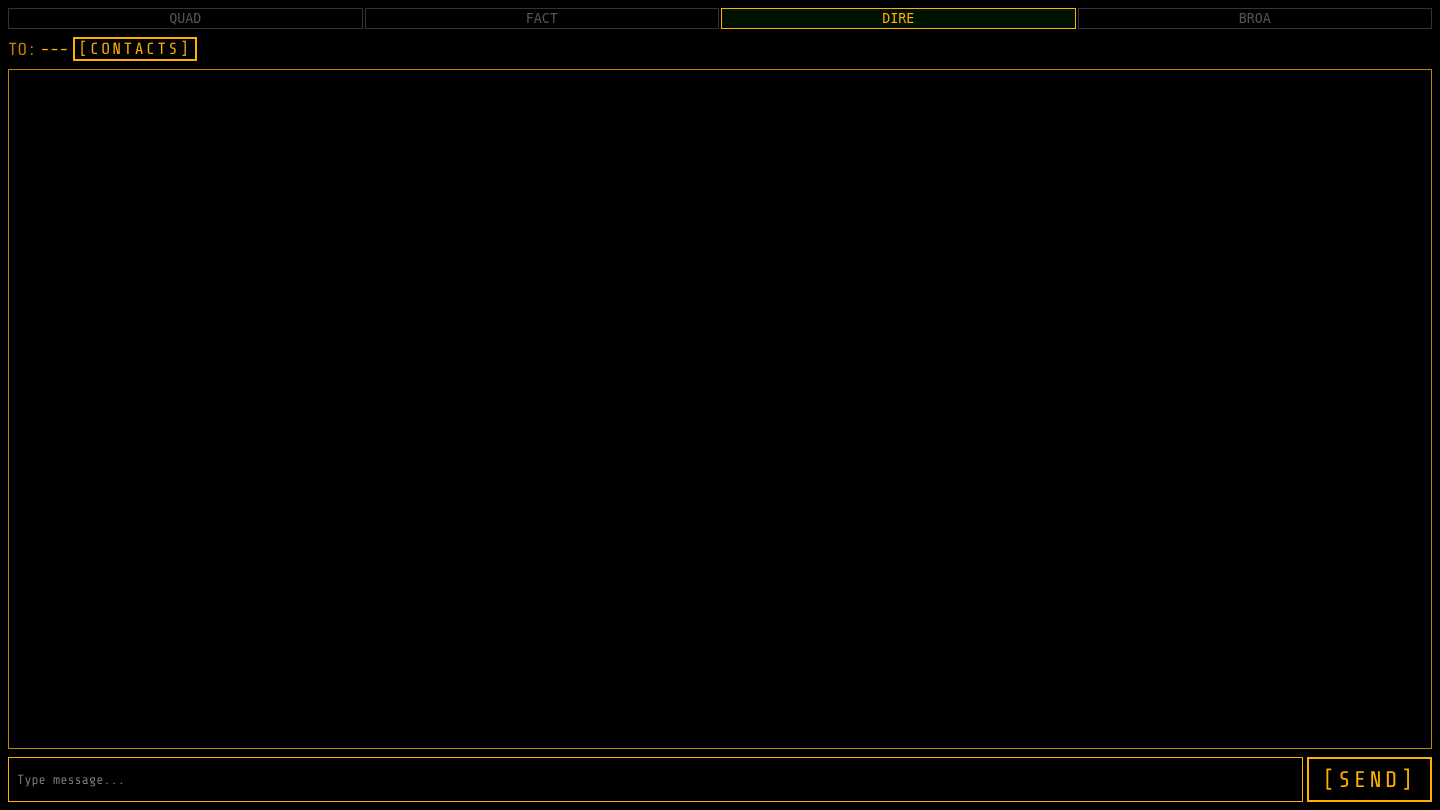
Test: CommsScreen › address book (direct channel) › selects a contact from the list
Click the button "[CONTACTS]".
click(135, 49)  # box [73, 37, 197, 61]
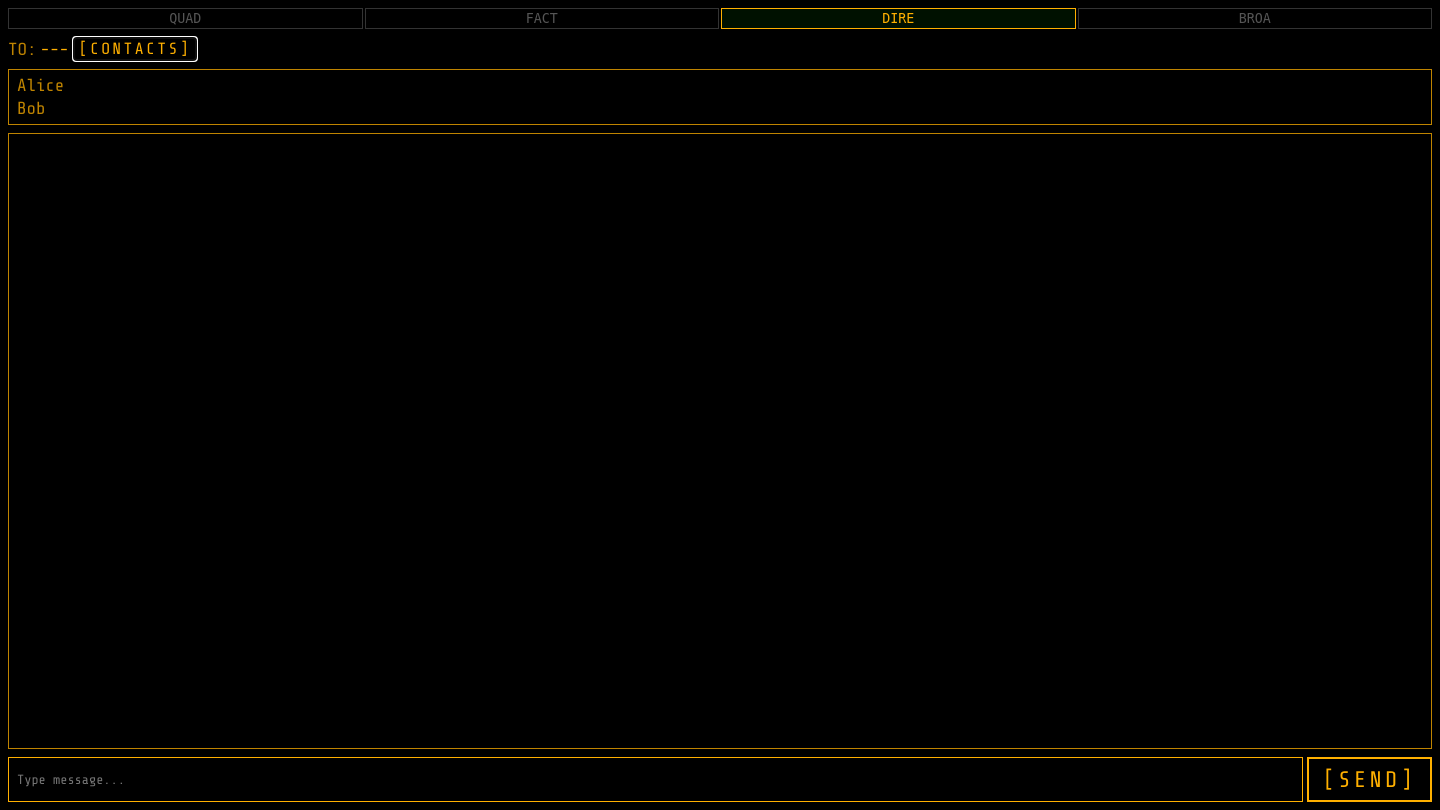
Click the text "Alice".
click(41, 86)  # box [17, 76, 64, 95]
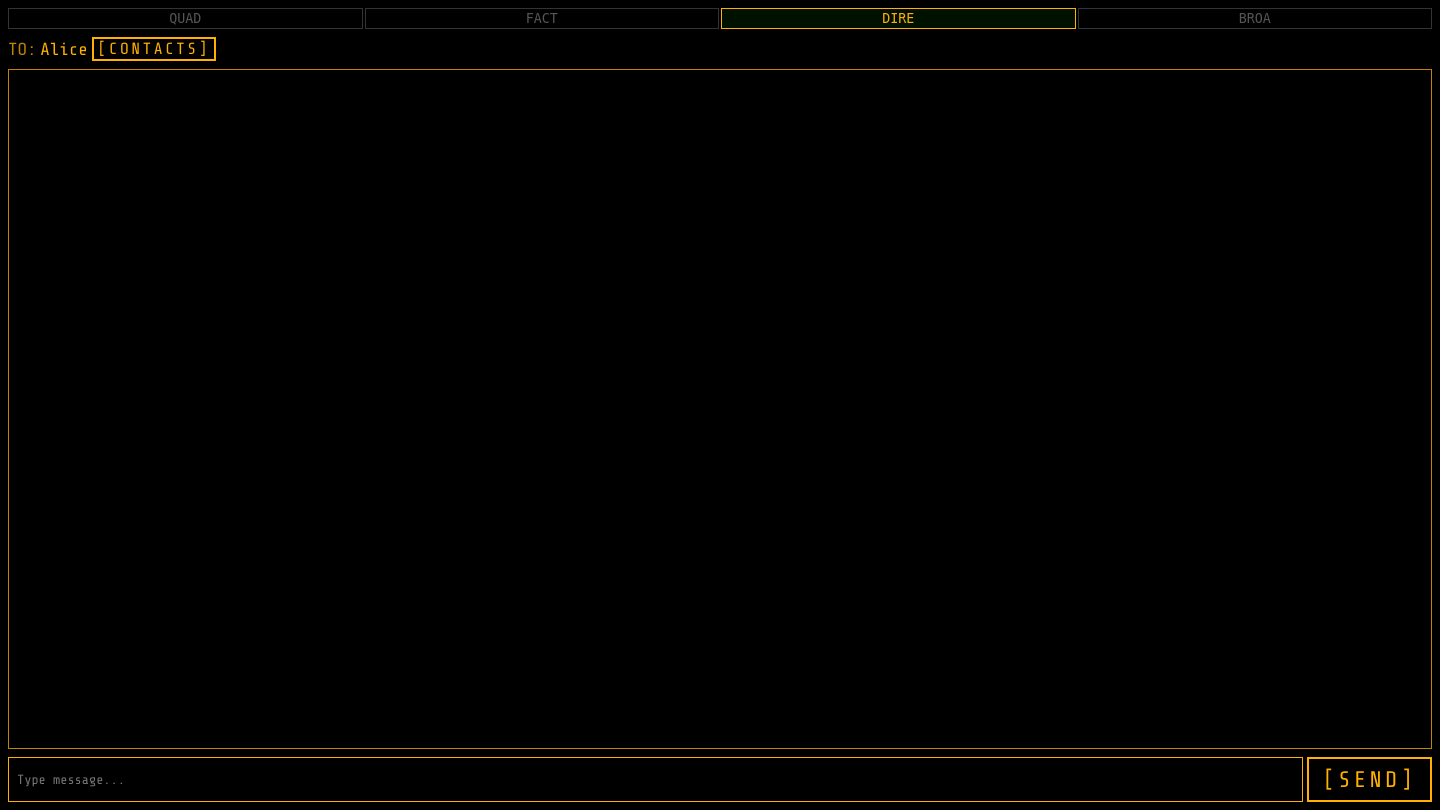
expect the element with test id "contacts-list" is gone: met
